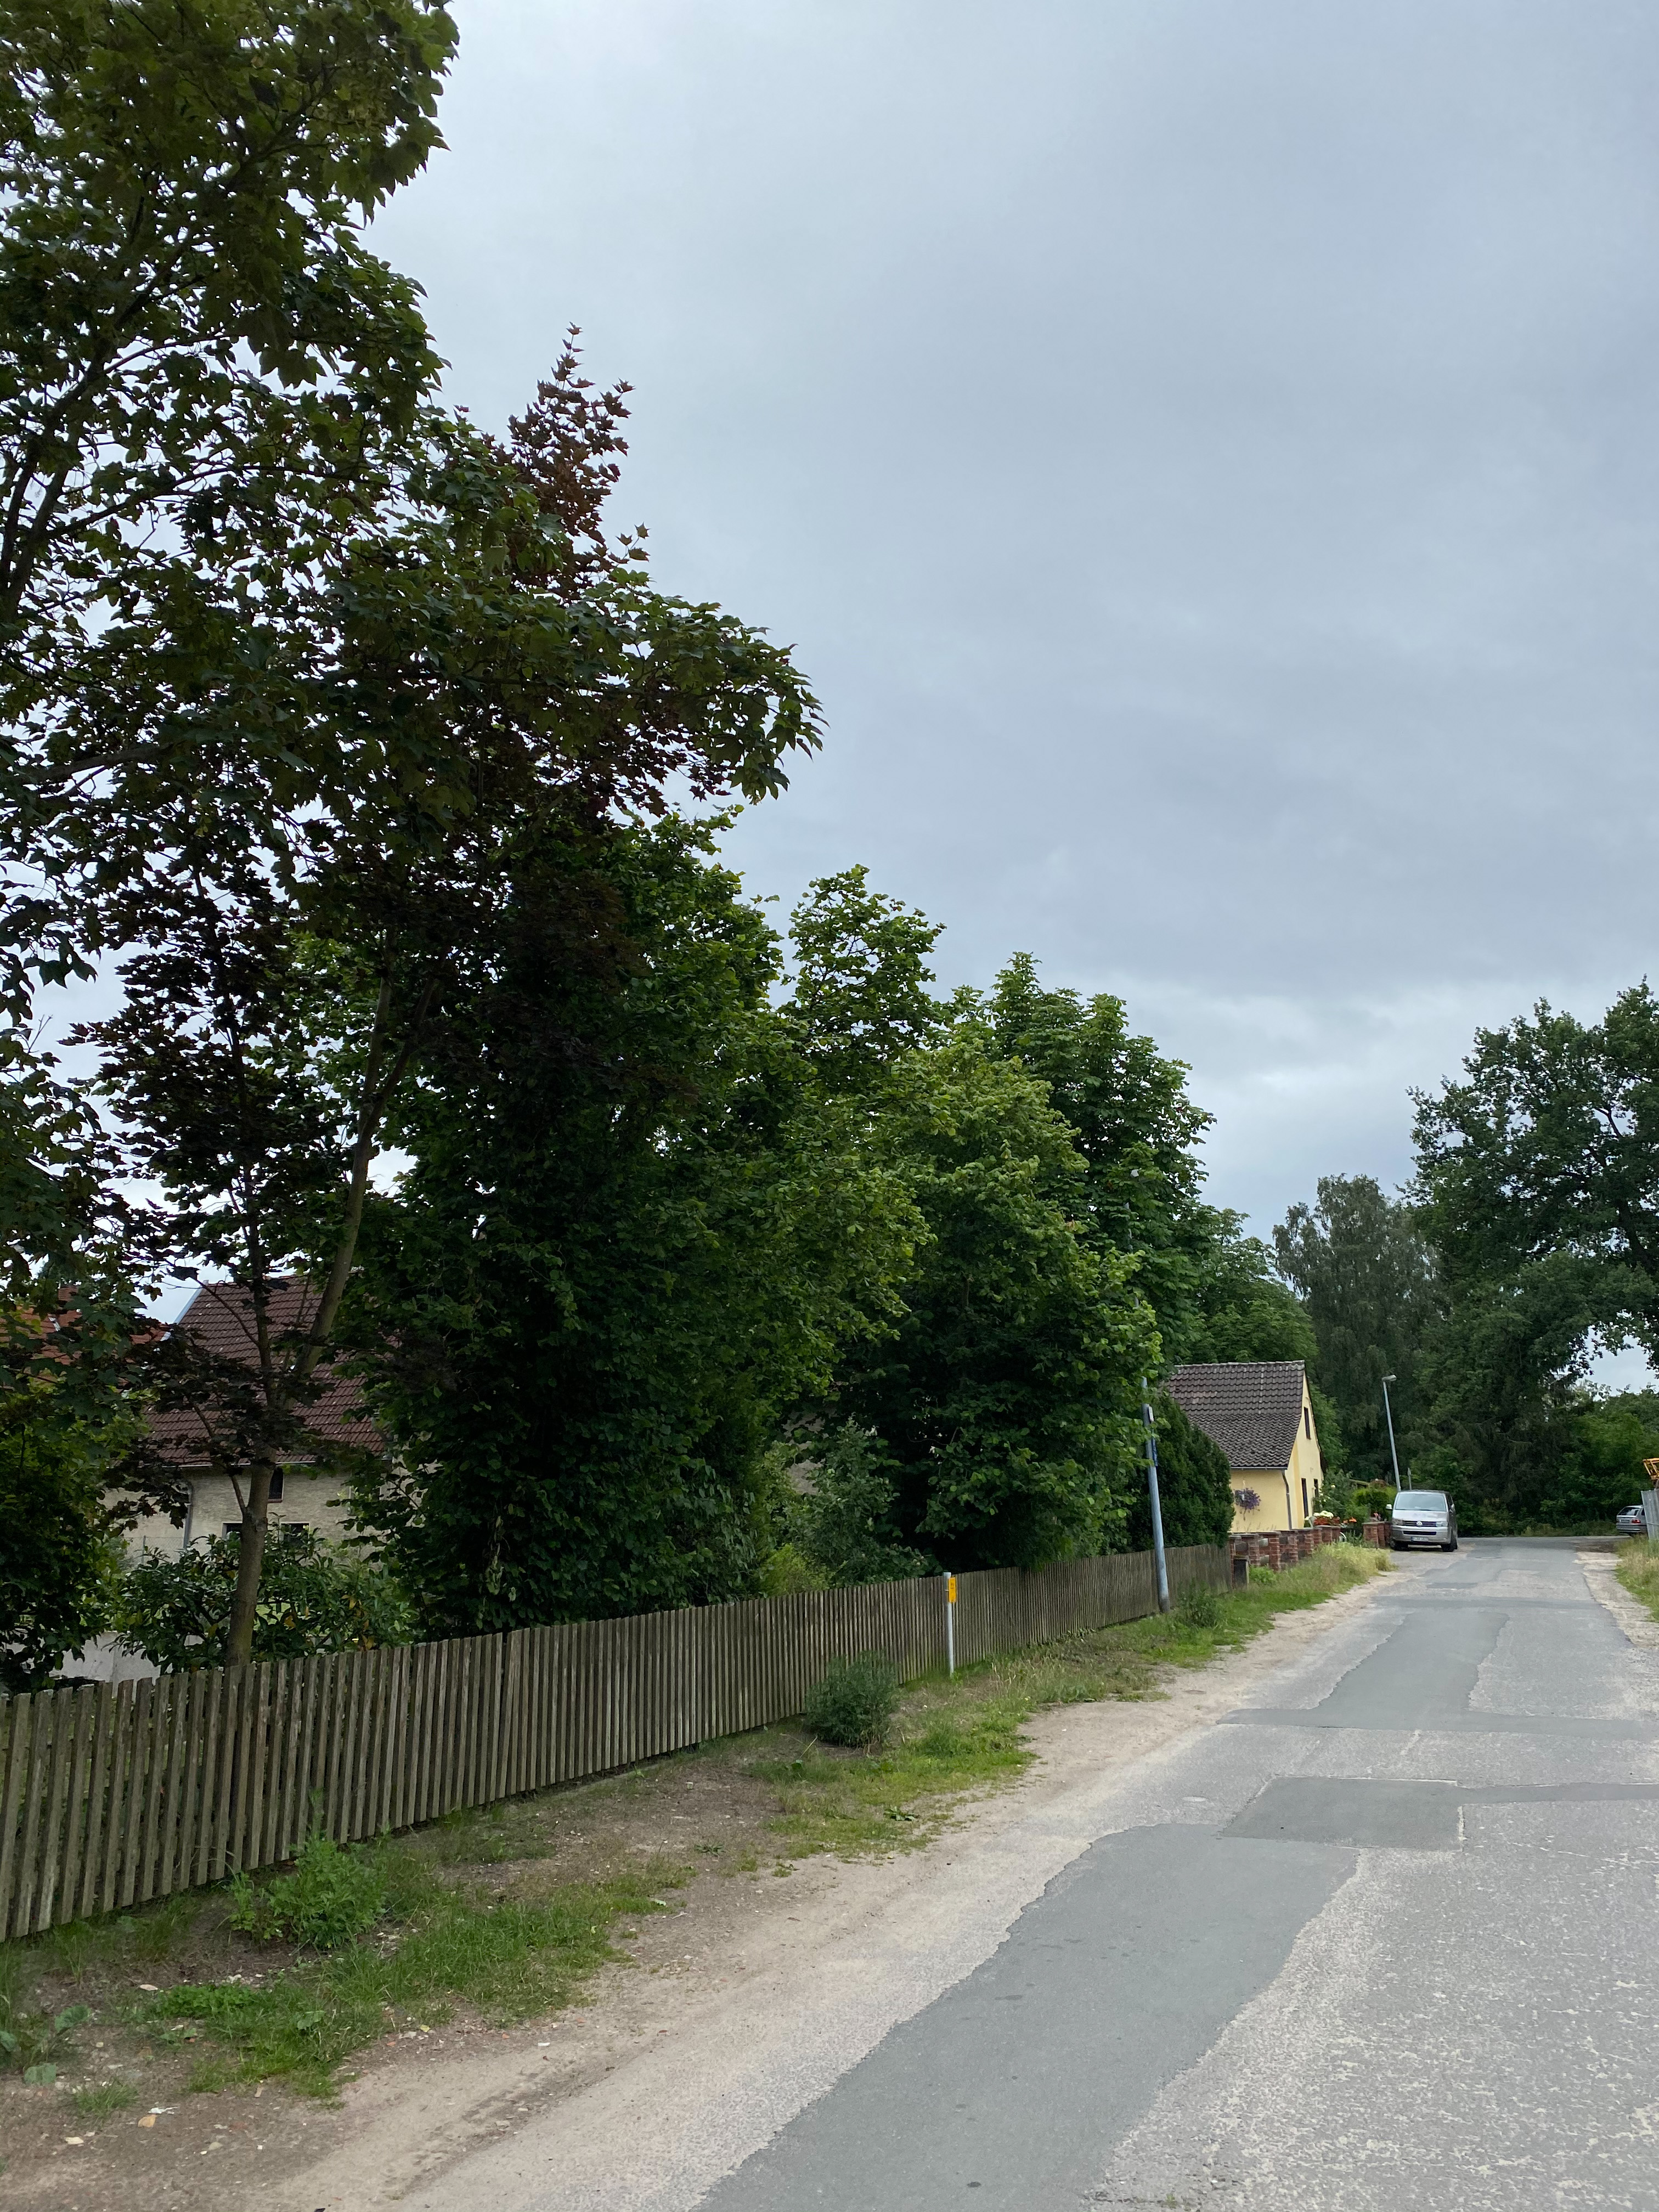tree: (0, 0, 774, 1299), (47, 421, 824, 1655), (286, 322, 732, 1165), (817, 1036, 1171, 1576), (920, 951, 1218, 1386), (1392, 972, 1659, 1378), (706, 862, 985, 1160), (1392, 1157, 1595, 1521), (1263, 1172, 1448, 1456)
